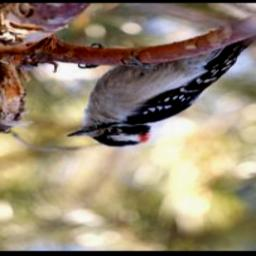Woodpecker: (67, 33, 256, 146)
